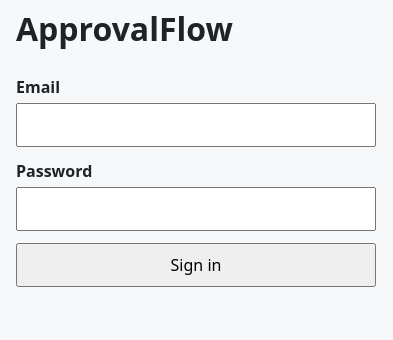
Test case: App authentication (F-01) › shows the error, keeps the email and clears the password when login fails
In the field labelled "Email": (196, 125) top-left (16, 103), bottom-right (376, 147), type "alice@example.com"
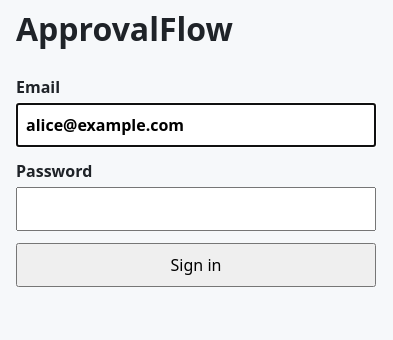
In the password field labelled "Password": (196, 209) top-left (16, 187), bottom-right (376, 231), type "wrong-password"
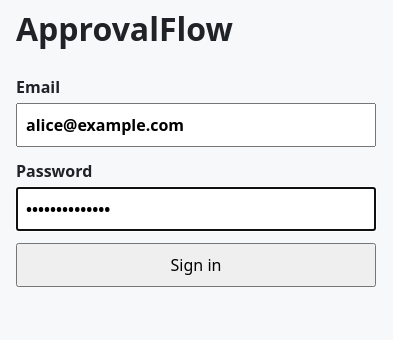
Click the button "Sign in": (196, 265) top-left (16, 243), bottom-right (376, 287)
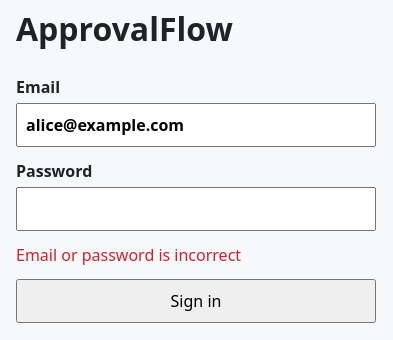
Expected: the message reads "Email or password is incorrect", top-left (16, 244), bottom-right (241, 266)
Expected: the password field labelled "Password" is empty, top-left (16, 187), bottom-right (376, 231)
